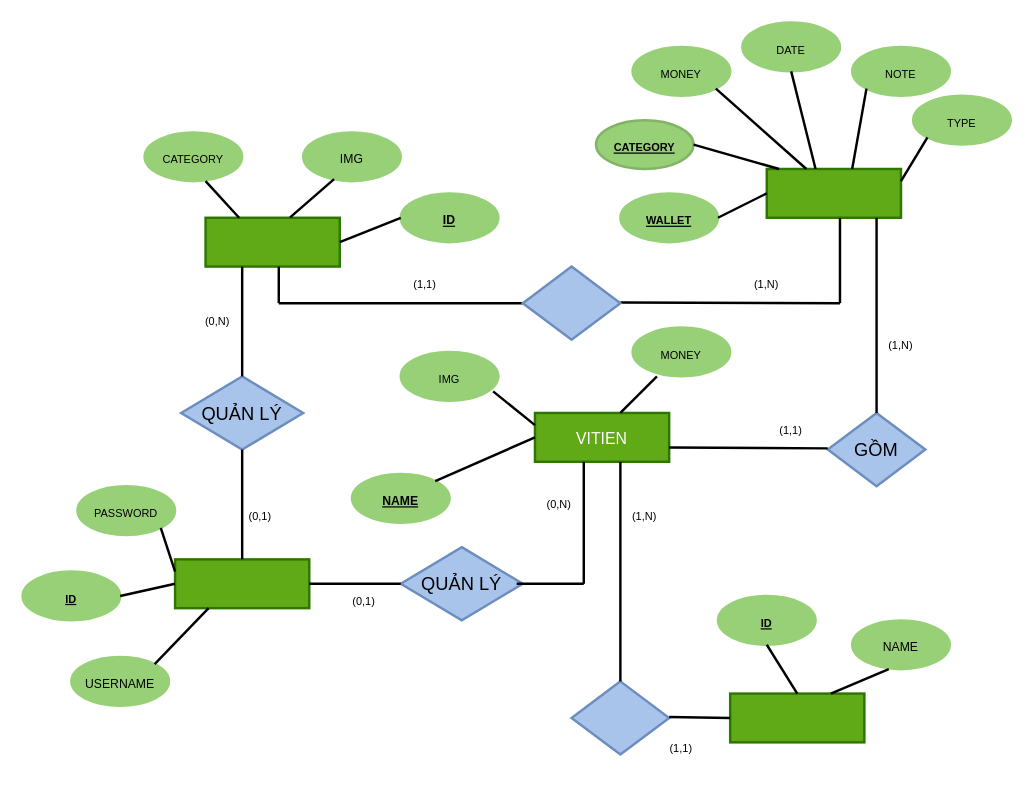
Some shapes in this 1032 by 787 pixel diagram are drawn without their labels. The shapes that lost their labels are listed below. From the top down, each one's box as (x1, y1, x2, y2) in pixels, then its label:
(765, 167, 902, 218): CHITIEU
(204, 216, 340, 267): DANHMUC
(521, 265, 621, 340): THUỘC
(173, 558, 310, 609): USER
(570, 680, 670, 755): CÓ
(728, 692, 865, 743): LOAITIENTE
